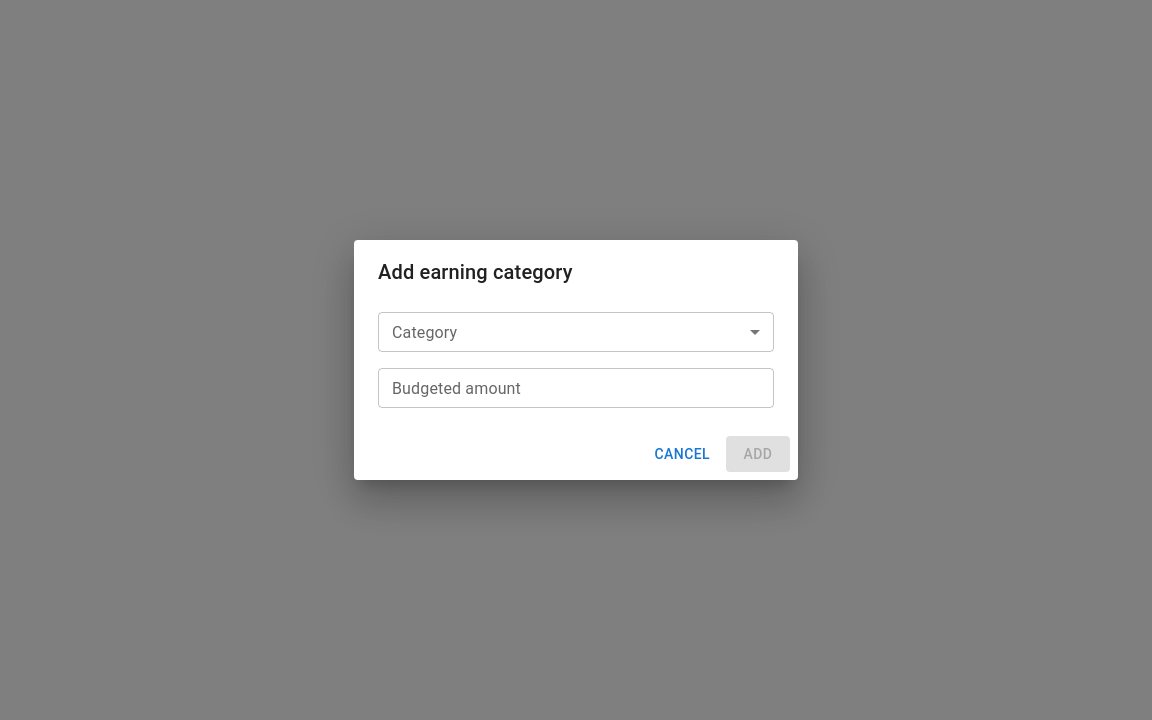
it: CreateBudgetLineDialog rendering › renders only categories matching categoryType (earning)
Press the mouse on the dropdown named "category" at point(576, 332), box [378,312,774,352]
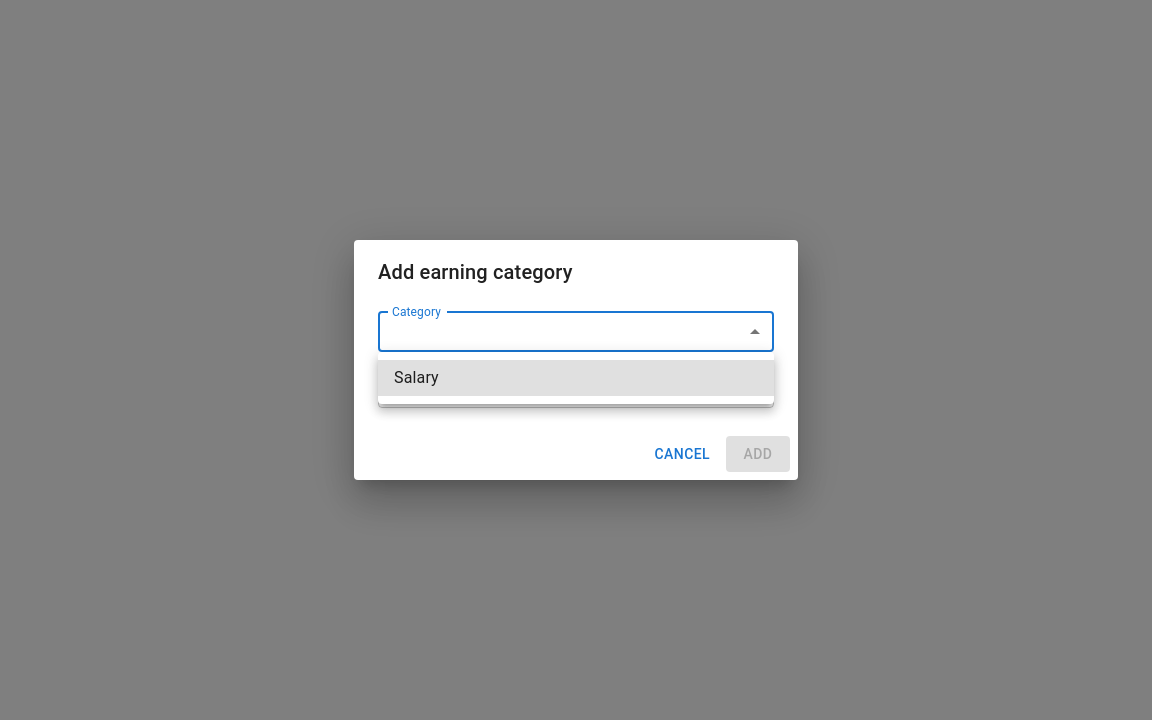
Now the option "Salary" is shown, box [378,360,774,396]
